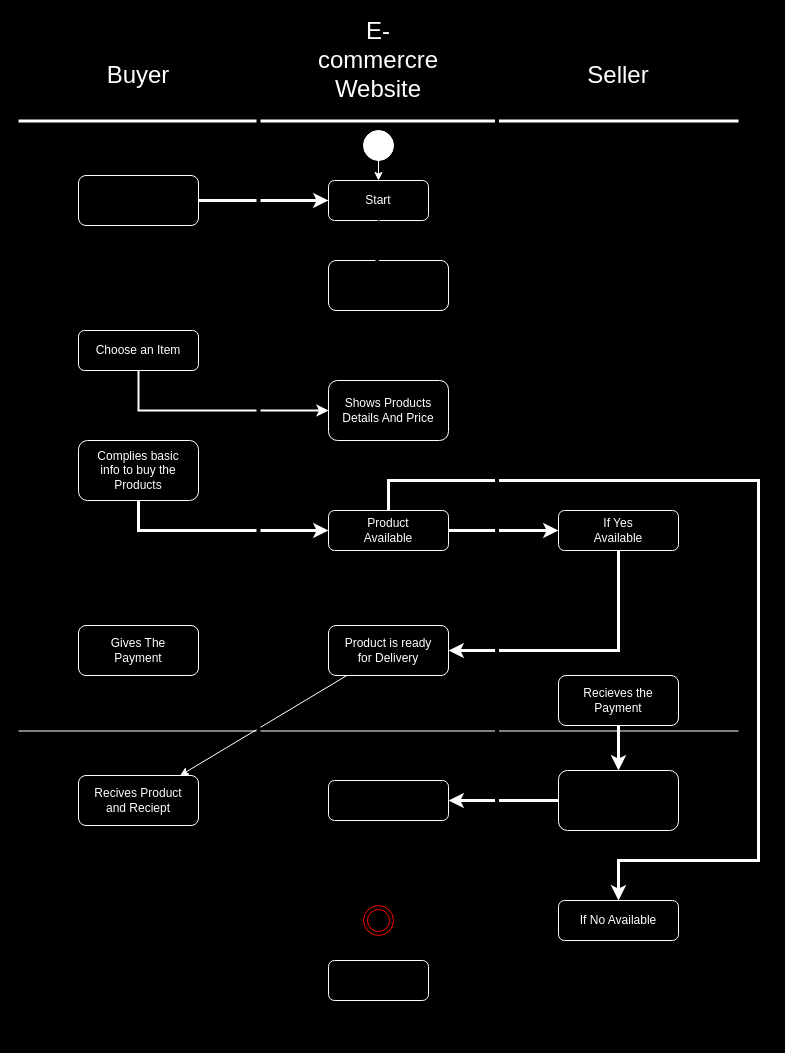
The diagram is 785 pixels wide and 1053 high, and some of its shapes have lost their labels. The centre of each missing label's shape, as x and y in pixels:
Browse for Product: point (138, 200)
END: point (378, 980)
Record the sales: point (388, 800)
Releases the product and recieves: point (618, 800)
Shows all Offer Products: point (388, 285)
